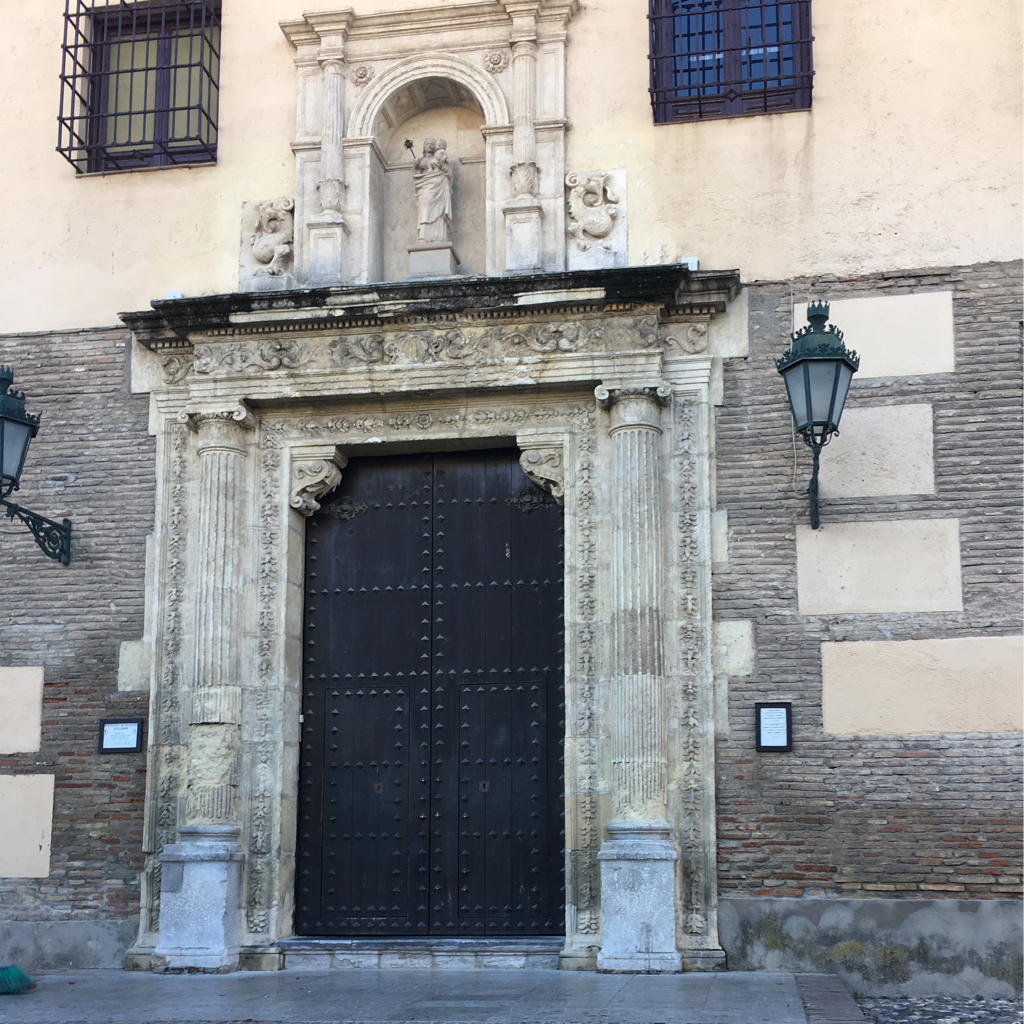arco-medio-punto: (363, 60, 498, 153)
vano-adintelado: (229, 366, 653, 947)
